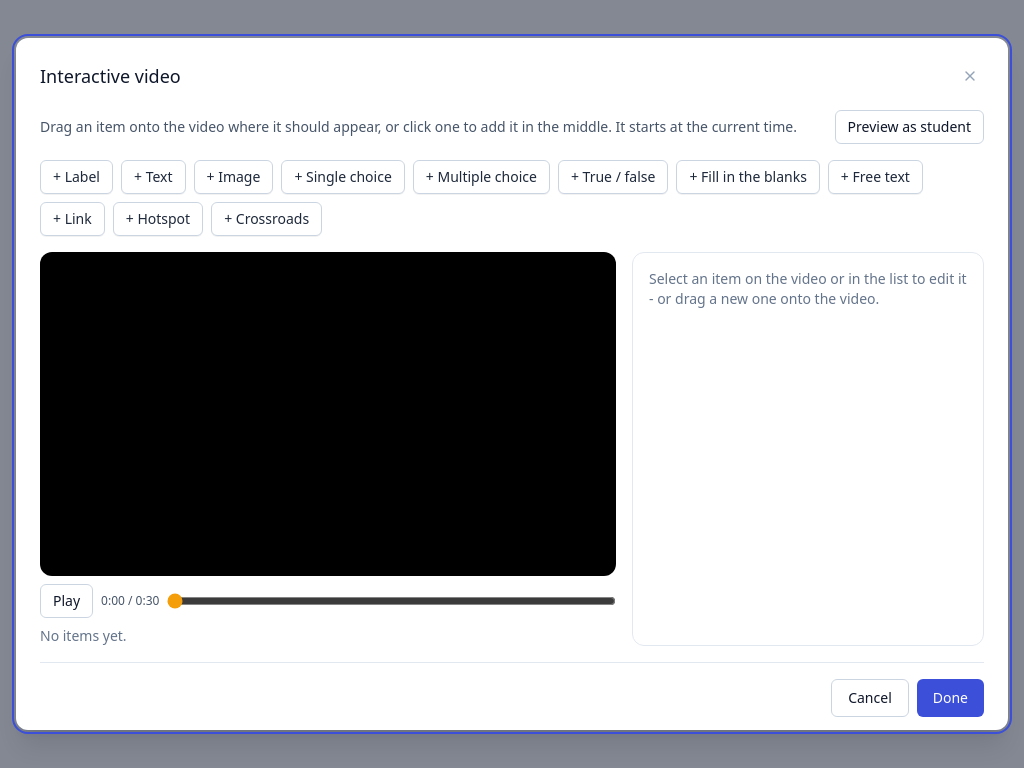
Scenario: InteractiveVideoEditor › keeps requiring a correct answer and retry together
Click the button "+ True / false" at (613, 177), box [558,160,668,194]
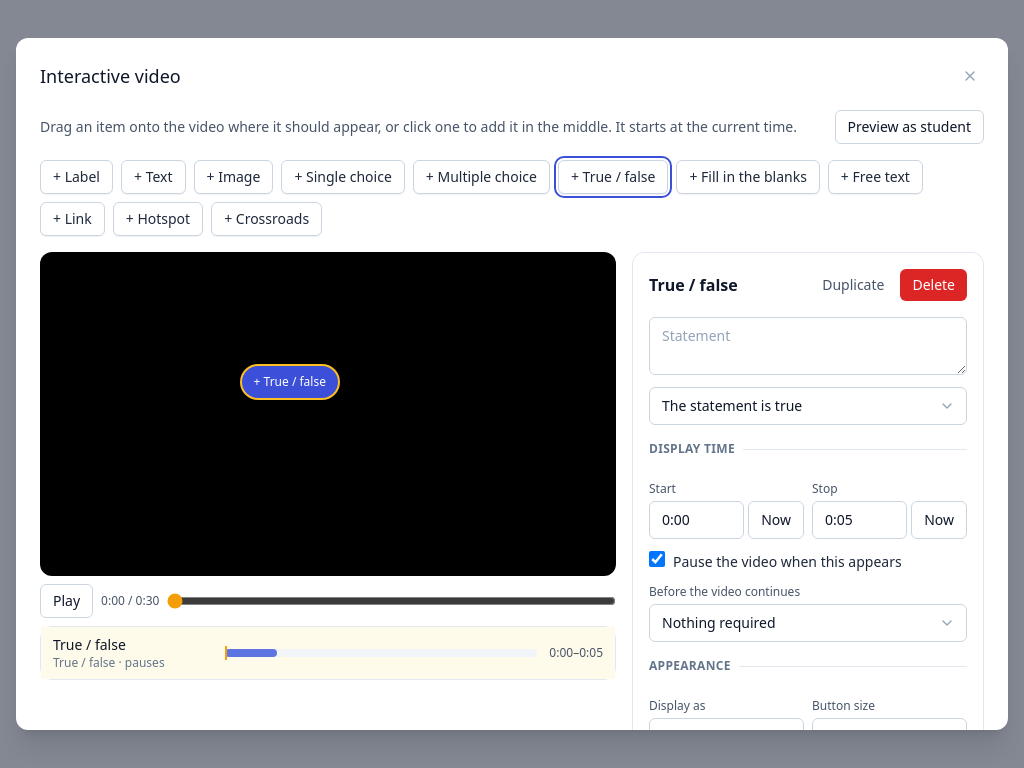
Select "It must be answered correctly" in the dropdown labelled "Before the video continues" at (808, 623), box [649,604,967,642]
(page scrolled)
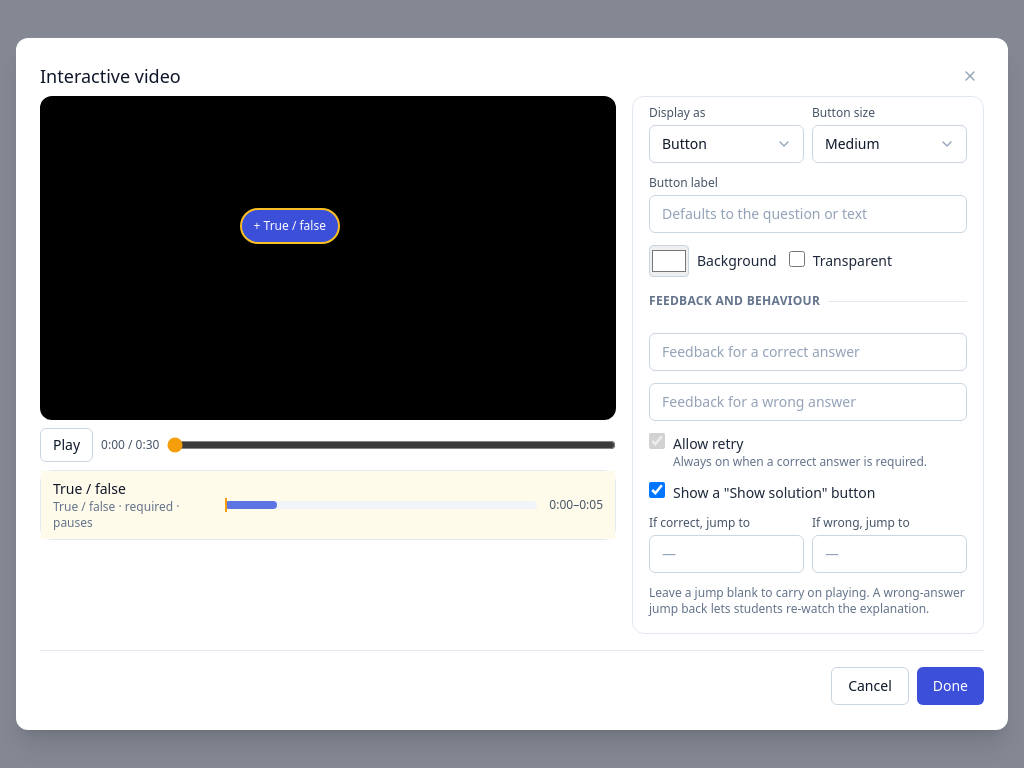
Expected: the checkbox labelled "Allow retry" is checked, [649,433,665,449]
Expected: the checkbox labelled "Allow retry" is disabled, [649,433,665,449]
